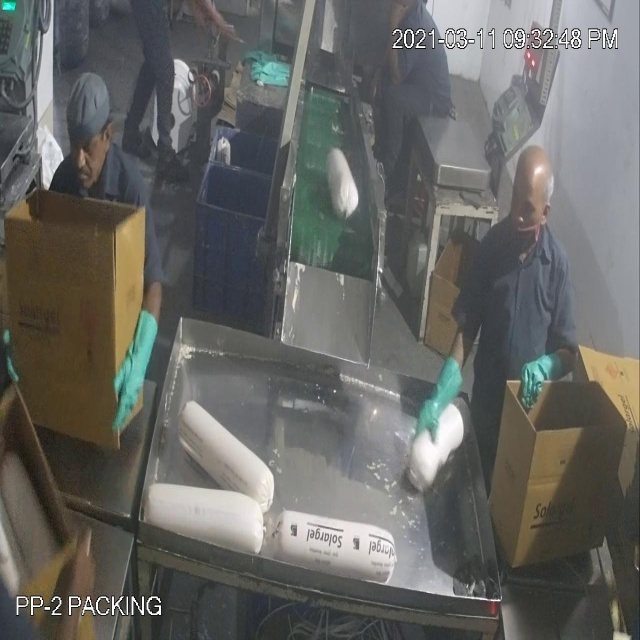Guantes: (95, 284, 160, 437), (410, 341, 470, 463), (518, 346, 565, 415)
Sin_guantes: (47, 529, 106, 640), (185, 1, 252, 53), (381, 1, 409, 90)
